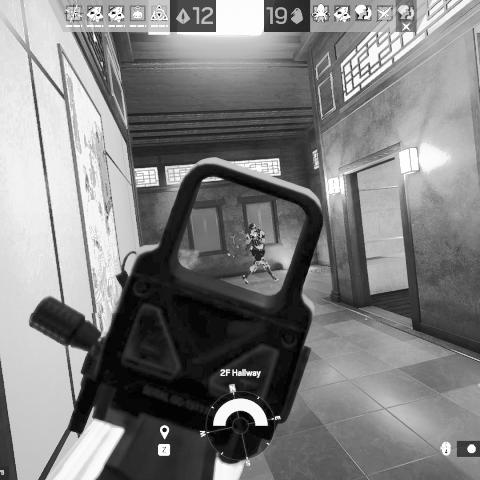Character: (241, 222, 281, 284)
Head: (248, 222, 257, 233)
